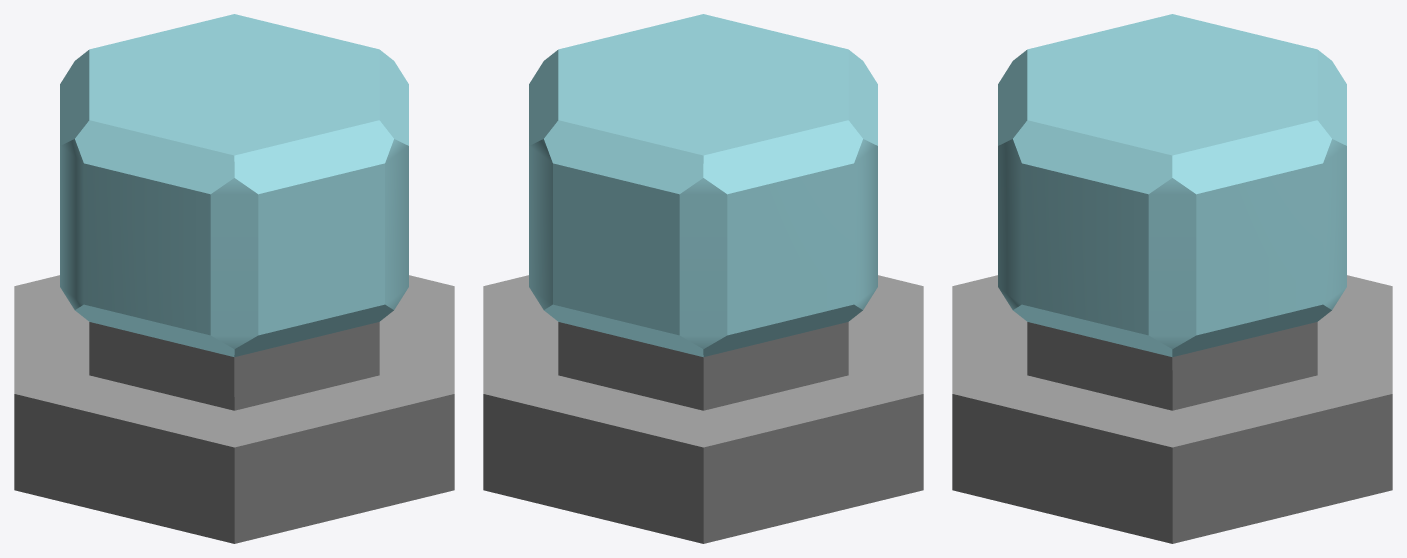
The model's file is Extra3.fbx.
The picture shows the model from 3 angles, left to right: view 1: azimuth 30°, elevation 25°; view 2: azimuth 150°, elevation 25°; view 3: azimuth 270°, elevation 25°; orthographic projection.
Visible parts, largest first — view 1: Extrea_asset_3; view 2: Extrea_asset_3; view 3: Extrea_asset_3.
Boxes of the visible parts, left/top/right/bottom form: Extrea_asset_3: left=14, top=14, right=454, bottom=543; Extrea_asset_3: left=483, top=14, right=923, bottom=543; Extrea_asset_3: left=952, top=14, right=1392, bottom=543.
Bounding box in the file's own units: 10.05 × 7.67 × 8.71.
